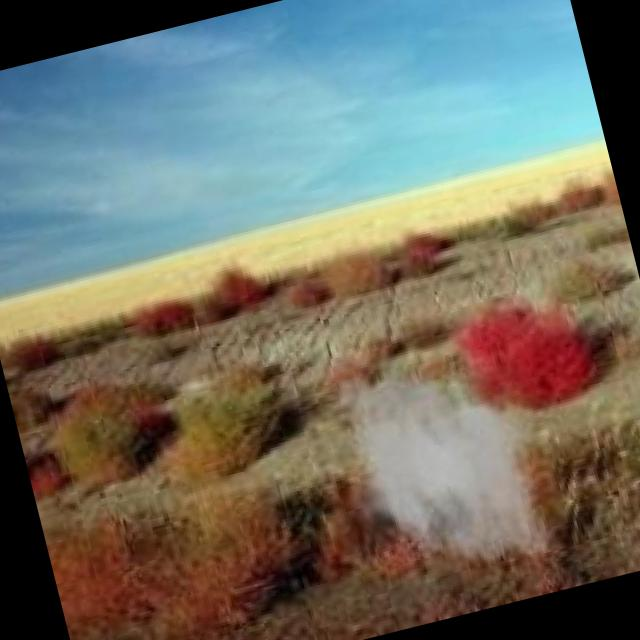Smoke: (316, 324, 576, 608)
